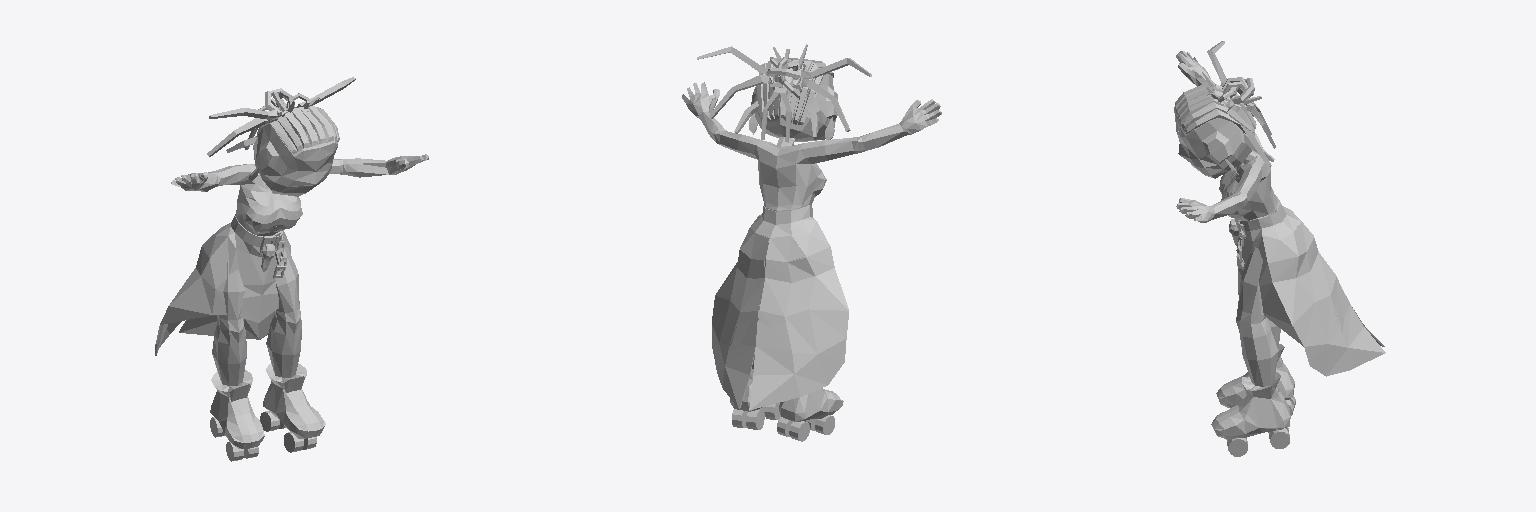
Rendered from bruja_000179.obj.
3 renders of one model, left to right at view 1: azimuth 30°, elevation 25°; view 2: azimuth 150°, elevation 25°; view 3: azimuth 270°, elevation 25°, orthographic.
Parts seen in each view (by area): view 1: Bruja_Plane.001; view 2: Bruja_Plane.001; view 3: Bruja_Plane.001.
Part boxes in pixels (bbox=[...]): Bruja_Plane.001: bbox=[155, 77, 428, 461]; Bruja_Plane.001: bbox=[682, 44, 941, 441]; Bruja_Plane.001: bbox=[1174, 41, 1385, 456].
Size of the model in its own units: 11.78 by 16.21 by 8.45.